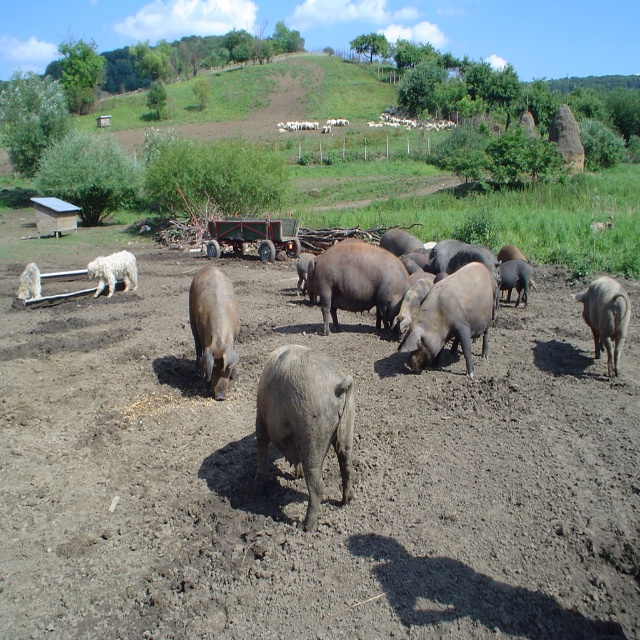Pig: (294, 226, 537, 379), (254, 342, 356, 533), (188, 263, 240, 398), (568, 277, 629, 375)
